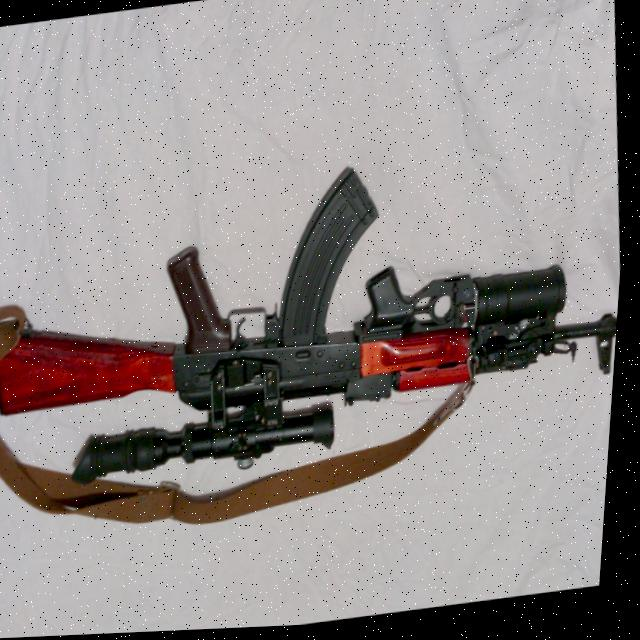firearm: (0, 137, 632, 503)
